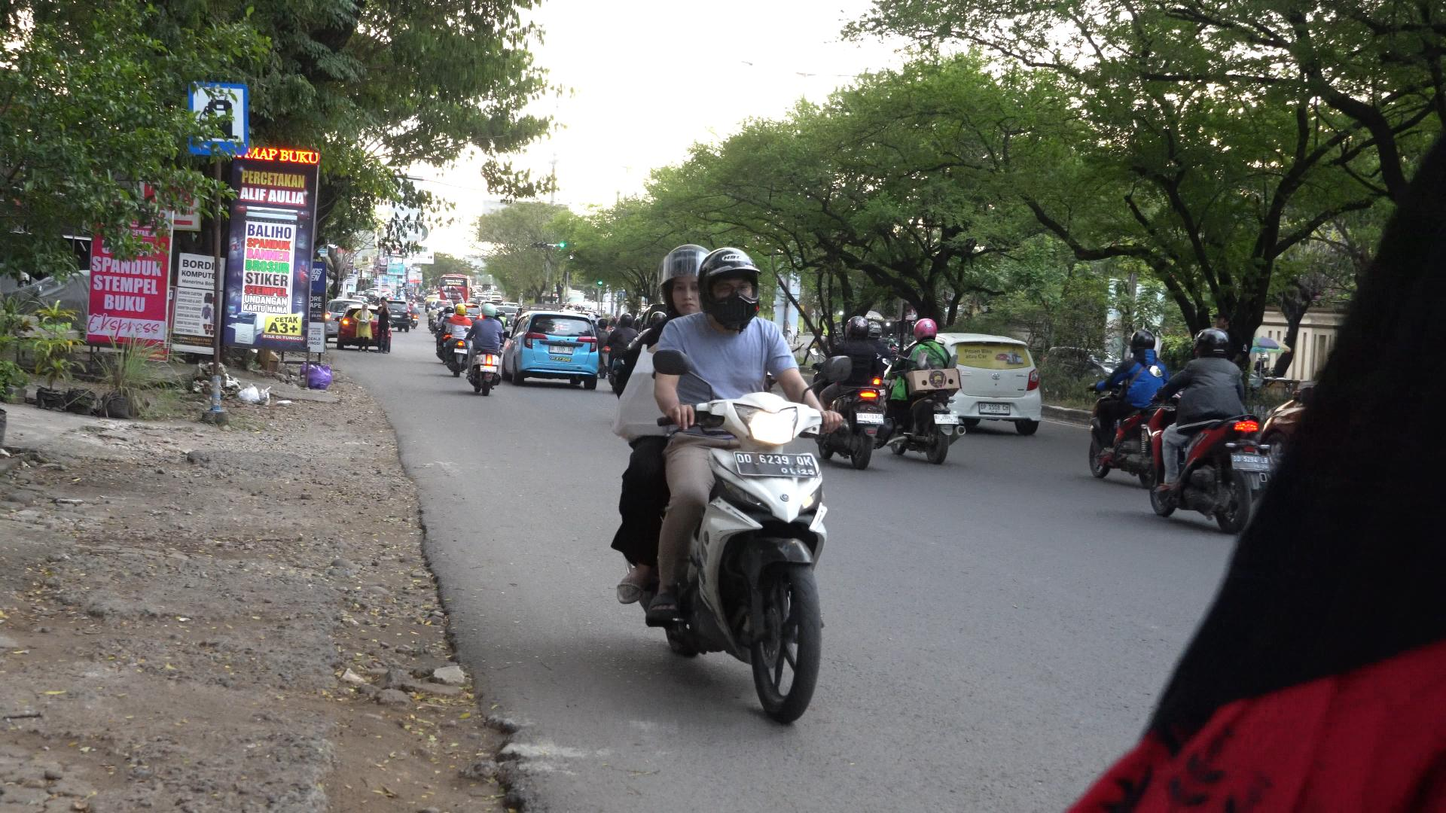number-plate: (732, 450, 822, 485)
